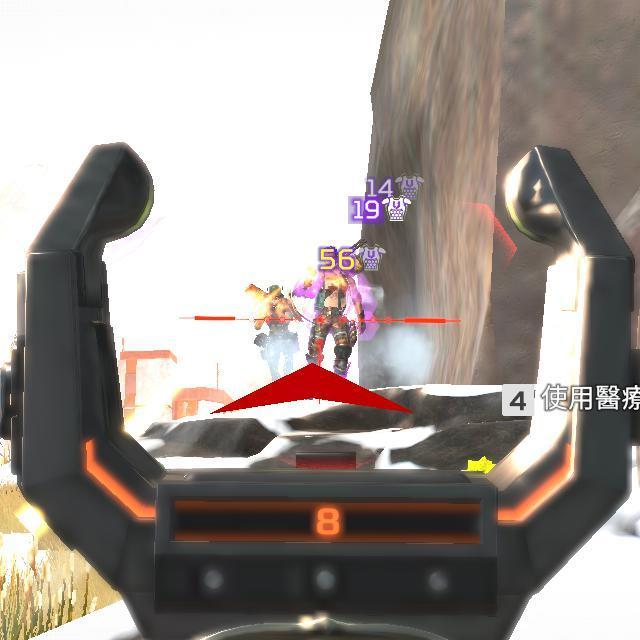avatar: (304, 265, 368, 377), (250, 282, 304, 381)
